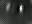person: (19, 5, 25, 17), (6, 4, 12, 14)
